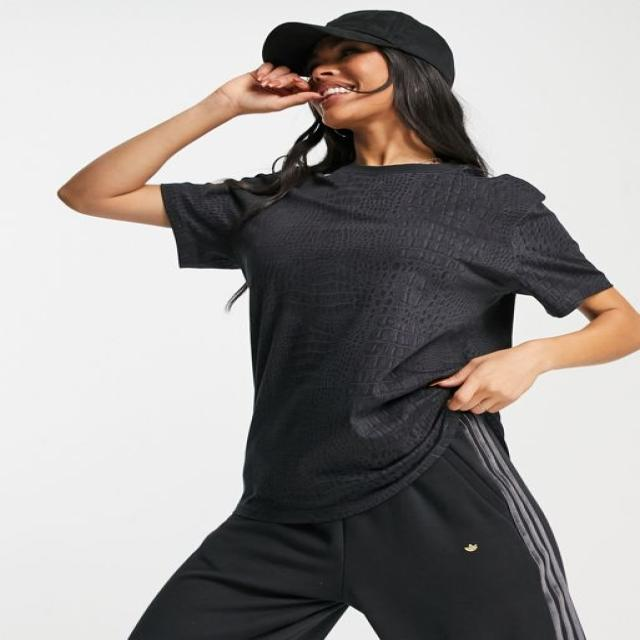tshirt: (158, 158, 609, 522)
